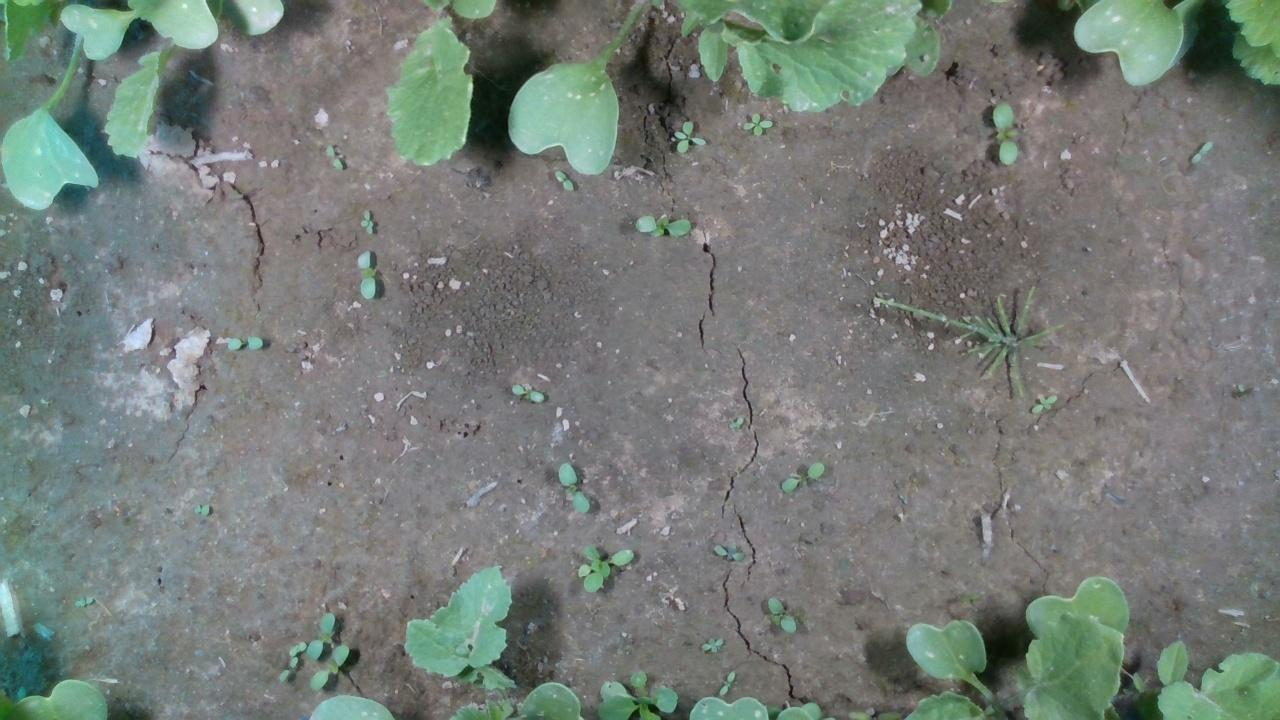weed: (990, 99, 1018, 166), (558, 460, 589, 514), (633, 212, 692, 237), (779, 461, 824, 491), (672, 119, 706, 153), (356, 248, 377, 301), (766, 596, 796, 632), (740, 110, 773, 136), (509, 380, 544, 402), (275, 655, 299, 682), (1189, 139, 1214, 164), (1030, 390, 1057, 413), (224, 334, 262, 350), (324, 142, 343, 171), (718, 668, 736, 697), (712, 543, 742, 560), (553, 169, 573, 192), (357, 208, 374, 234), (699, 636, 724, 652)
